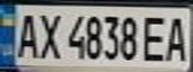3: (103, 11, 121, 62)
4: (63, 10, 87, 60)
8: (81, 11, 106, 61), (118, 11, 142, 62)
A: (163, 11, 193, 63), (12, 9, 42, 60)
E: (139, 11, 172, 62)
X: (36, 8, 63, 61)
